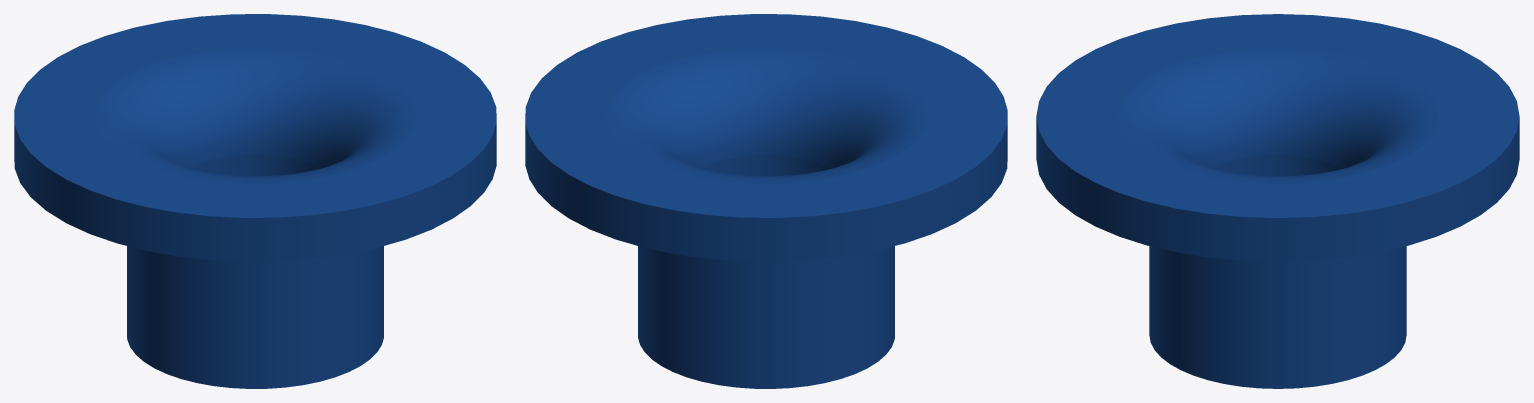
File: exit.FBX
3 renders of one model, left to right at view 1: azimuth 30°, elevation 25°; view 2: azimuth 150°, elevation 25°; view 3: azimuth 270°, elevation 25°, orthographic.
Parts seen in each view (by area): view 1: Circle001; view 2: Circle001; view 3: Circle001.
Boxes of the visible parts, x1,y1,x2,y2 form: Circle001: (14,14,496,388); Circle001: (525,14,1007,388); Circle001: (1036,14,1519,388).
Bounding box in the file's own units: 6.01 × 3 × 6.01.
